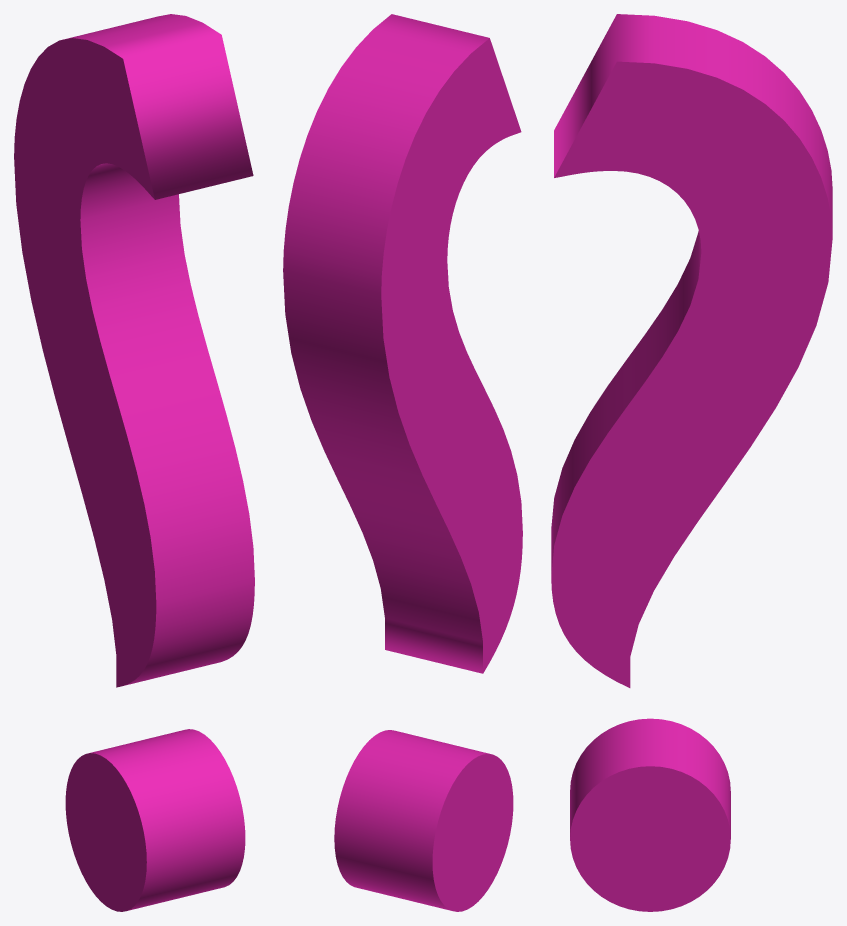
Rendered from credits.glb.
3 views of the same model, side by side, from view 1: azimuth 30°, elevation 25°; view 2: azimuth 150°, elevation 25°; view 3: azimuth 270°, elevation 25° (orthographic).
Parts seen in each view (by area): view 1: Text; view 2: Text; view 3: Text.
Boxes of the visible parts, x1,y1,x2,y2 form: Text: [14, 14, 254, 911]; Text: [283, 14, 522, 911]; Text: [551, 14, 832, 911].
Bounding box in the file's own units: 0.084 × 0.7 × 0.21.
